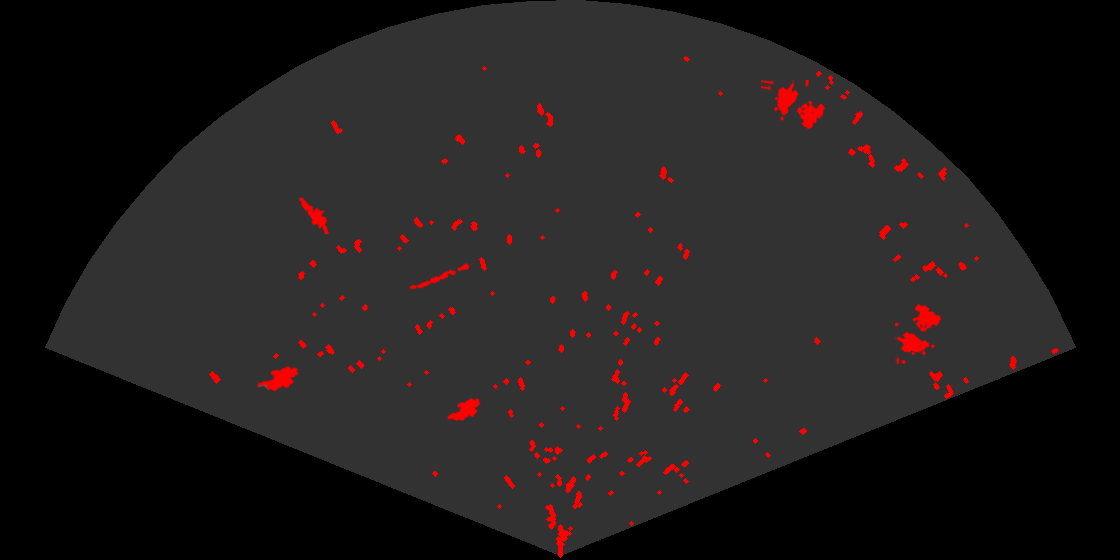AUV: (255, 364, 300, 393), (445, 396, 482, 423)
cage: (761, 80, 827, 131), (895, 302, 943, 364)
chain: (406, 260, 474, 292)
frogman: (296, 190, 331, 234)
